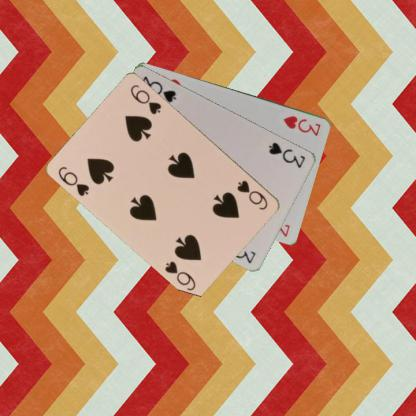3h: (281, 112, 322, 138)
3s: (266, 140, 307, 170)
6s: (56, 164, 92, 198), (235, 178, 269, 212)
